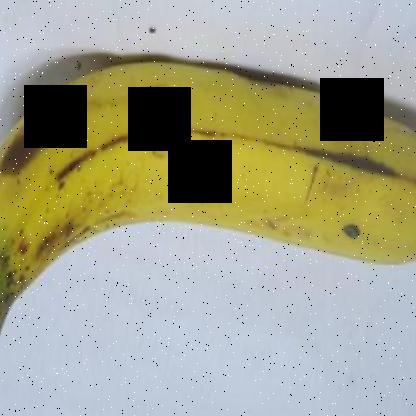ripe: (0, 42, 415, 353)
